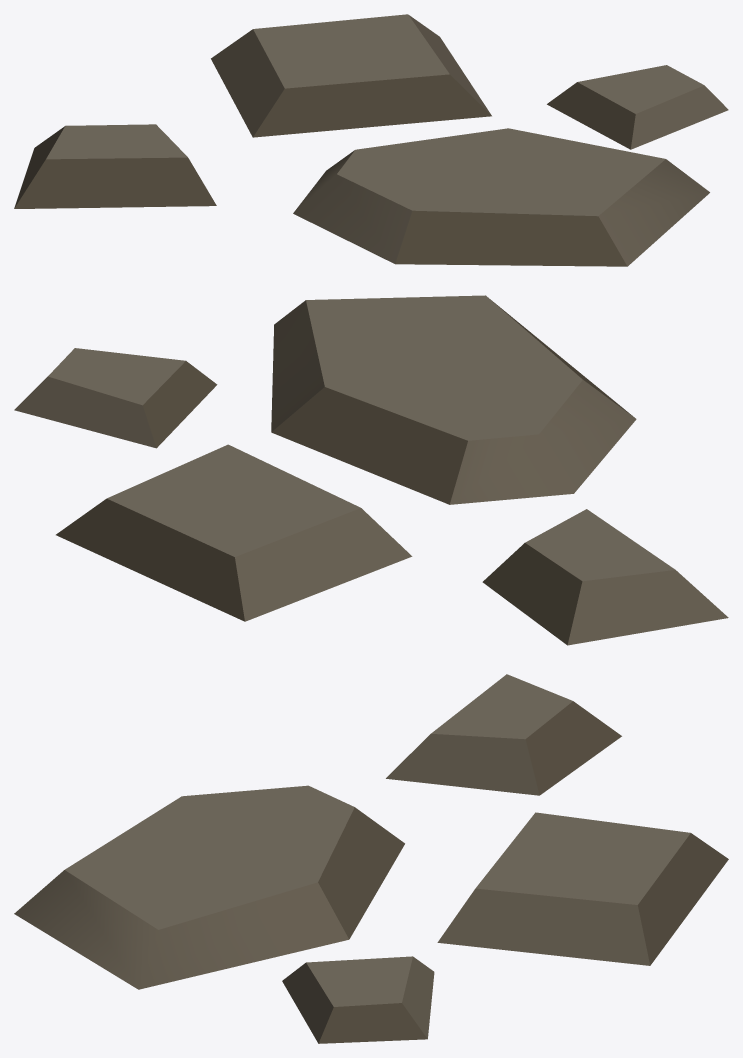
File: caillou3.fbx
The picture shows the model from 3 angles, top to bottom: view 1: azimuth 30°, elevation 25°; view 2: azimuth 150°, elevation 25°; view 3: azimuth 270°, elevation 25°; orthographic projection. The views are drawn at different scales.
Parts seen in each view (by area): view 1: caillou3; view 2: caillou3; view 3: caillou3.
Boxes of the visible parts, x1,y1,x2,y2 form: caillou3: [14, 14, 728, 266]; caillou3: [14, 295, 728, 645]; caillou3: [14, 674, 728, 1043].
Size of the model in its own units: 5.95 by 0.3187 by 5.13.
